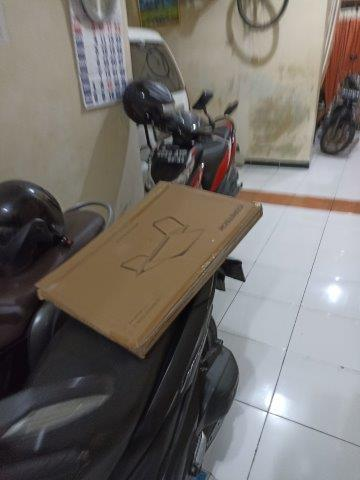kardus: (43, 183, 262, 352)
